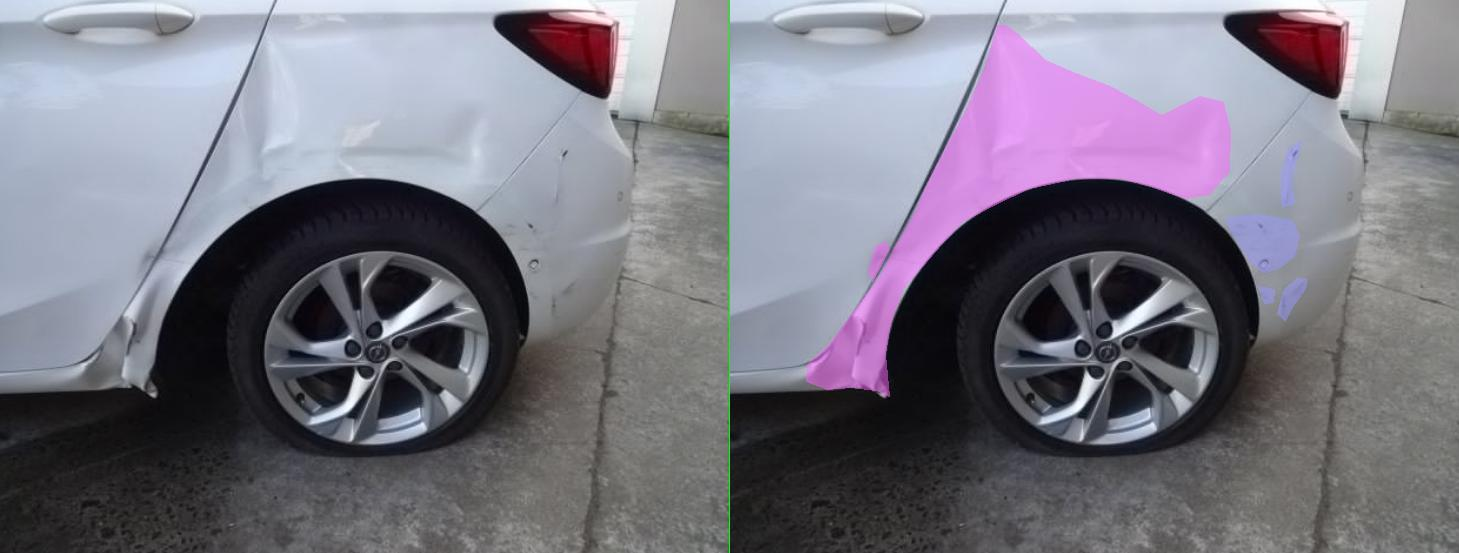Dent: (152, 25, 1001, 396), (276, 241, 318, 281)
Scratch: (991, 214, 1139, 273), (1103, 141, 1143, 207), (1095, 277, 1155, 321), (1057, 286, 1089, 303)
